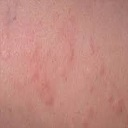Hives: (97, 83, 128, 115), (57, 43, 73, 78), (37, 85, 59, 105), (1, 46, 12, 62)
